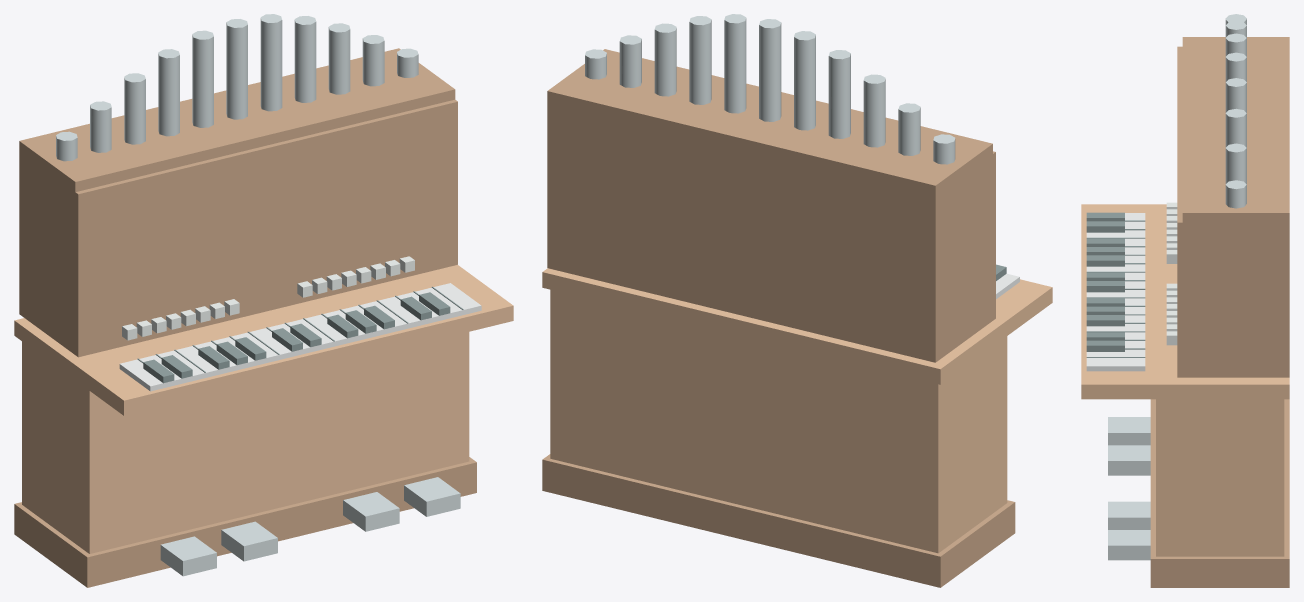
The model's file is organParlour.glb.
3 renders of one model, left to right at view 1: azimuth 30°, elevation 25°; view 2: azimuth 150°, elevation 25°; view 3: azimuth 270°, elevation 25°, orthographic. The views are drawn at different scales.
Parts seen in each view (by area): view 1: organParlour; view 2: organParlour; view 3: organParlour.
Boxes of the visible parts, left/top/right/bottom form: organParlour: left=14, top=14, right=513, bottom=587; organParlour: left=542, top=14, right=1052, bottom=587; organParlour: left=1081, top=14, right=1289, bottom=587.
Size of the model in its own units: 0.8 by 0.95 by 0.39.
